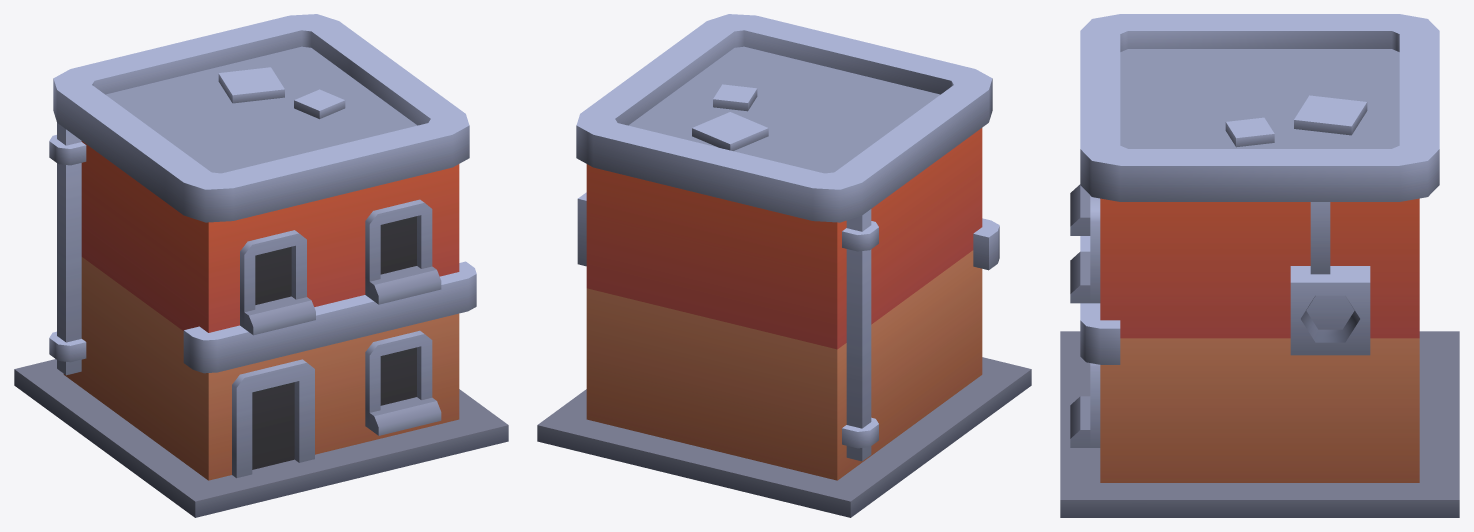
The model's file is ke_building-small-a.glb.
3 views of the same model, side by side, from view 1: azimuth 30°, elevation 25°; view 2: azimuth 150°, elevation 25°; view 3: azimuth 270°, elevation 25° (orthographic). The views are drawn at different scales.
Parts seen in each view (by area): view 1: building-small-a; view 2: building-small-a; view 3: building-small-a.
Part boxes in pixels (left/top/right/bottom): building-small-a: left=14, top=14, right=508, bottom=517; building-small-a: left=537, top=14, right=1031, bottom=517; building-small-a: left=1060, top=14, right=1459, bottom=517.
Bounding box in the file's own units: 1 × 0.95 × 1.
1 material, 1 textured.
